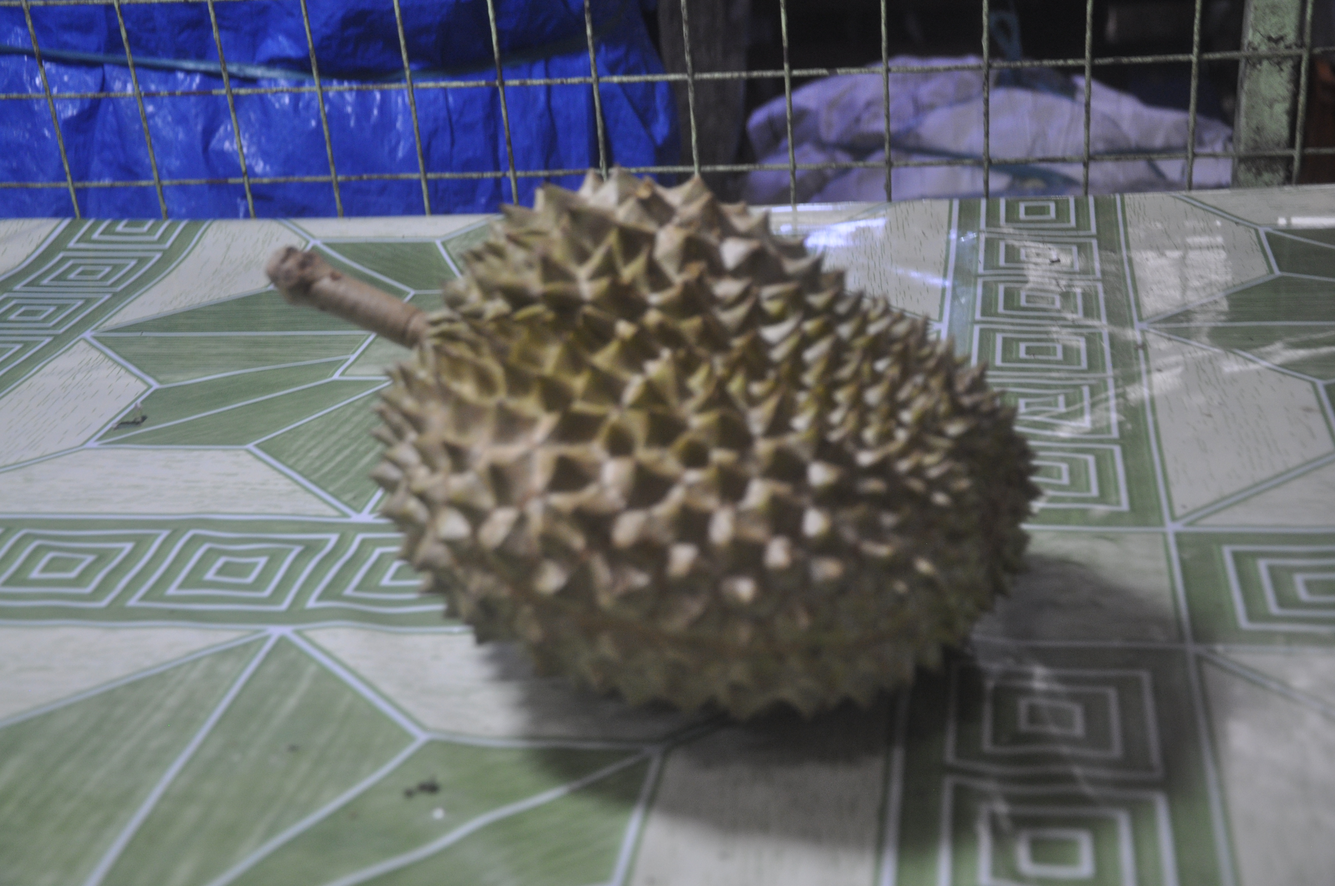mature: (267, 171, 1040, 718)
